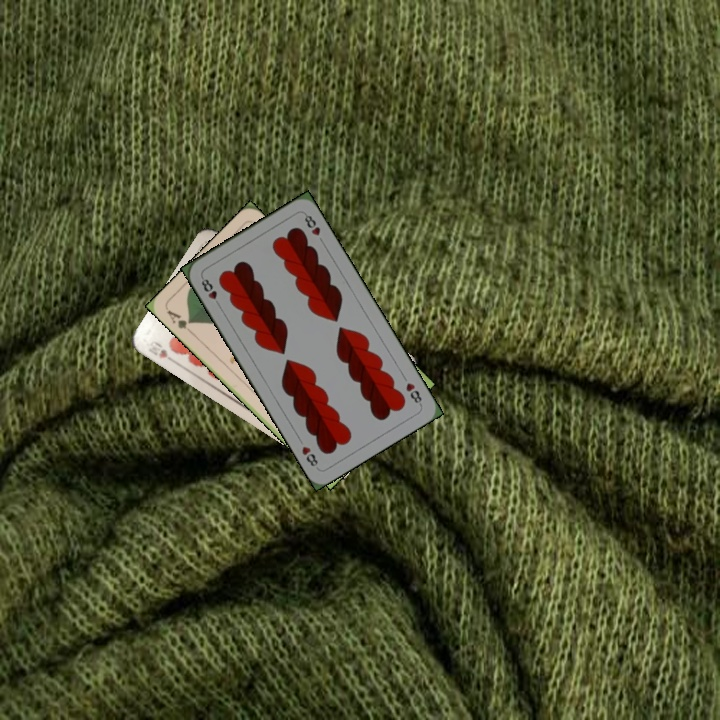GA: (163, 305, 196, 337)
H10: (143, 336, 179, 366)
H8: (197, 273, 223, 310), (402, 378, 424, 408)
